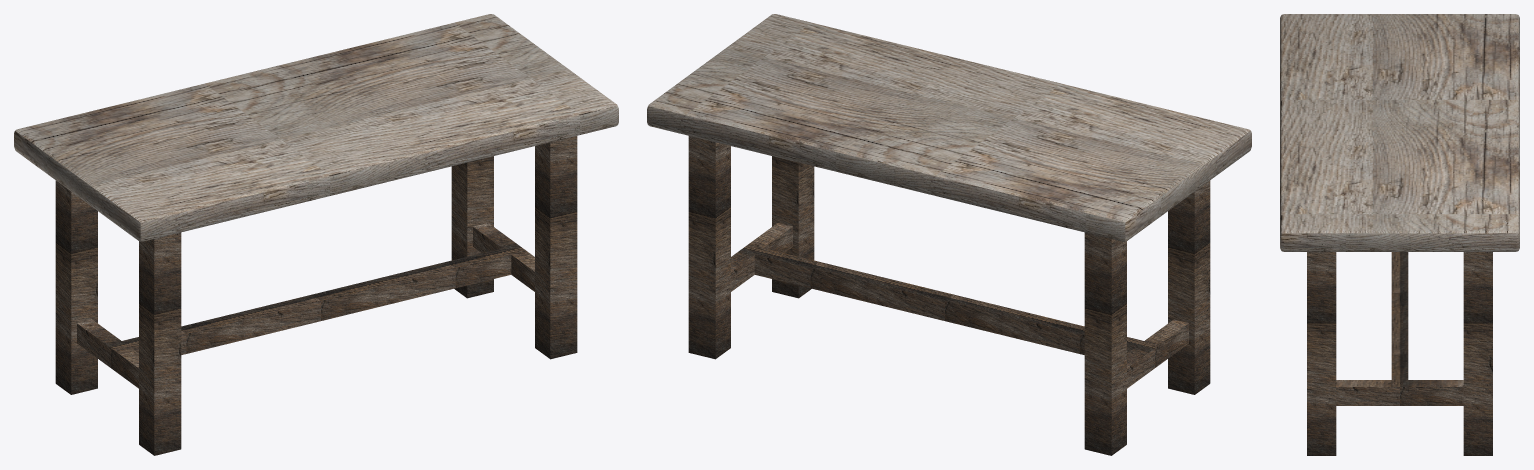
Rendered from table-v02.glb.
3 views of the same model, side by side, from view 1: azimuth 30°, elevation 25°; view 2: azimuth 150°, elevation 25°; view 3: azimuth 270°, elevation 25° (orthographic). The views are drawn at different scales.
Parts seen in each view (by area): view 1: table; view 2: table; view 3: table.
Part boxes in pixels (x1,y1,x2,y2): table: (14,14,618,455); table: (647,14,1251,455); table: (1280,14,1519,455).
Bounding box in the file's own units: 2.5 × 1.25 × 1.15.
2 materials, 2 textured.
